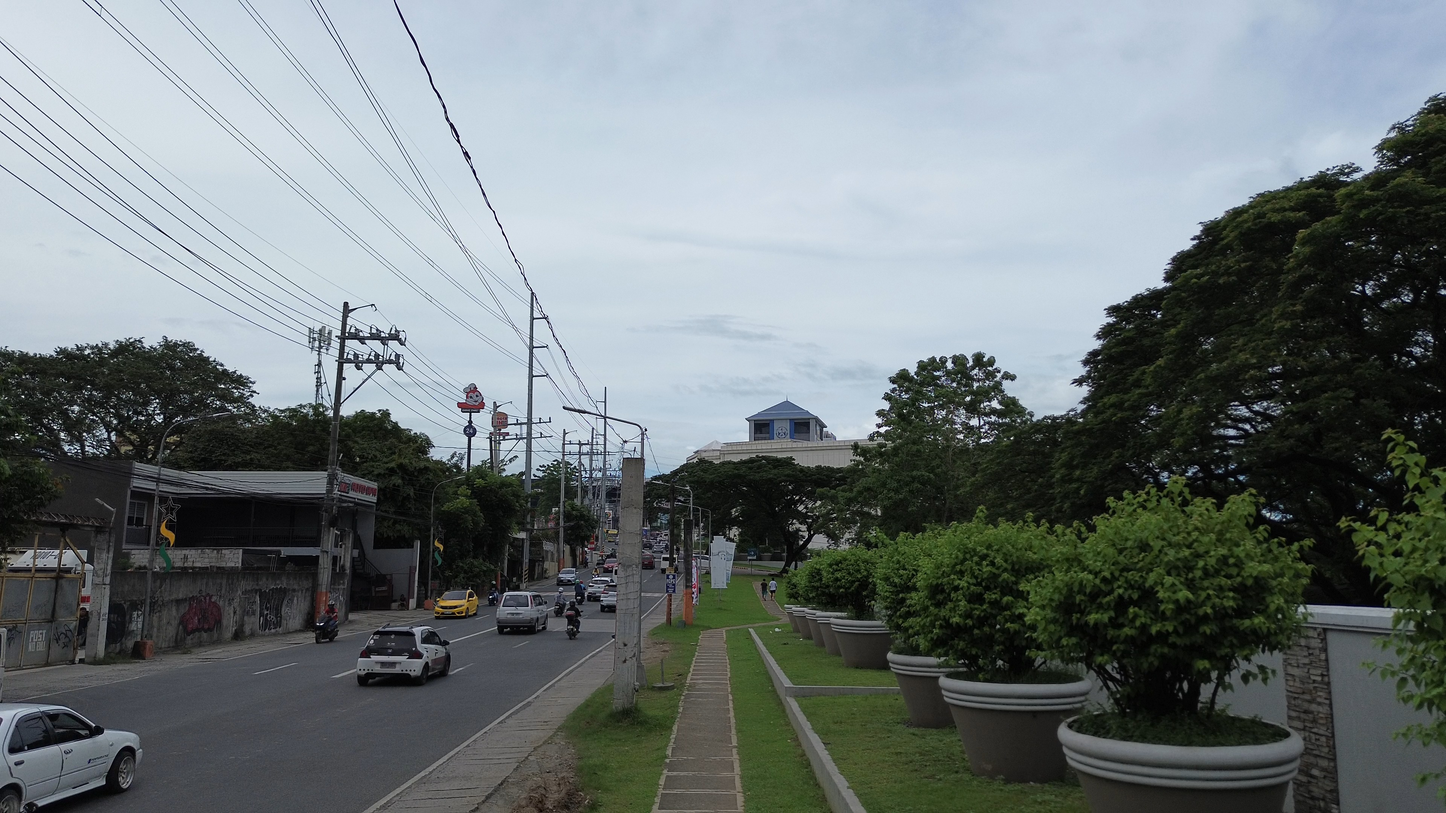car: (0, 703, 142, 813), (586, 577, 615, 601), (557, 568, 577, 585)
motorcycle: (314, 615, 339, 643), (566, 610, 580, 639), (553, 594, 566, 617), (487, 589, 499, 606)
vehicle: (357, 626, 451, 685), (496, 592, 550, 633), (434, 589, 479, 618), (313, 614, 339, 643), (566, 604, 582, 639), (599, 584, 618, 612), (553, 591, 570, 615), (641, 552, 654, 569), (602, 558, 617, 572), (488, 588, 500, 605)
